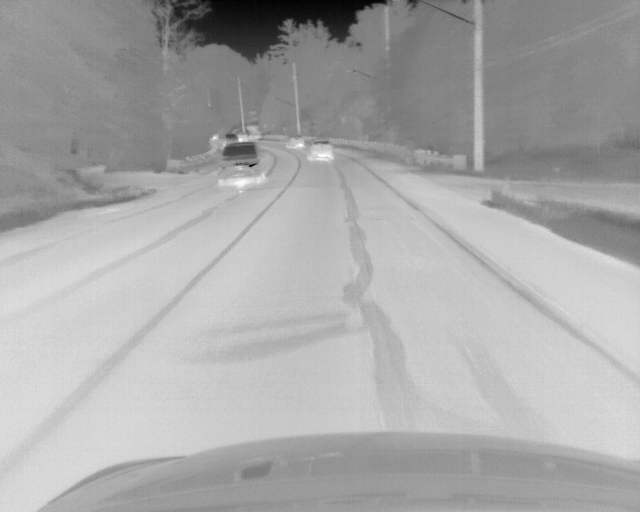car: (217, 141, 267, 191), (305, 140, 333, 163), (285, 133, 306, 149)
